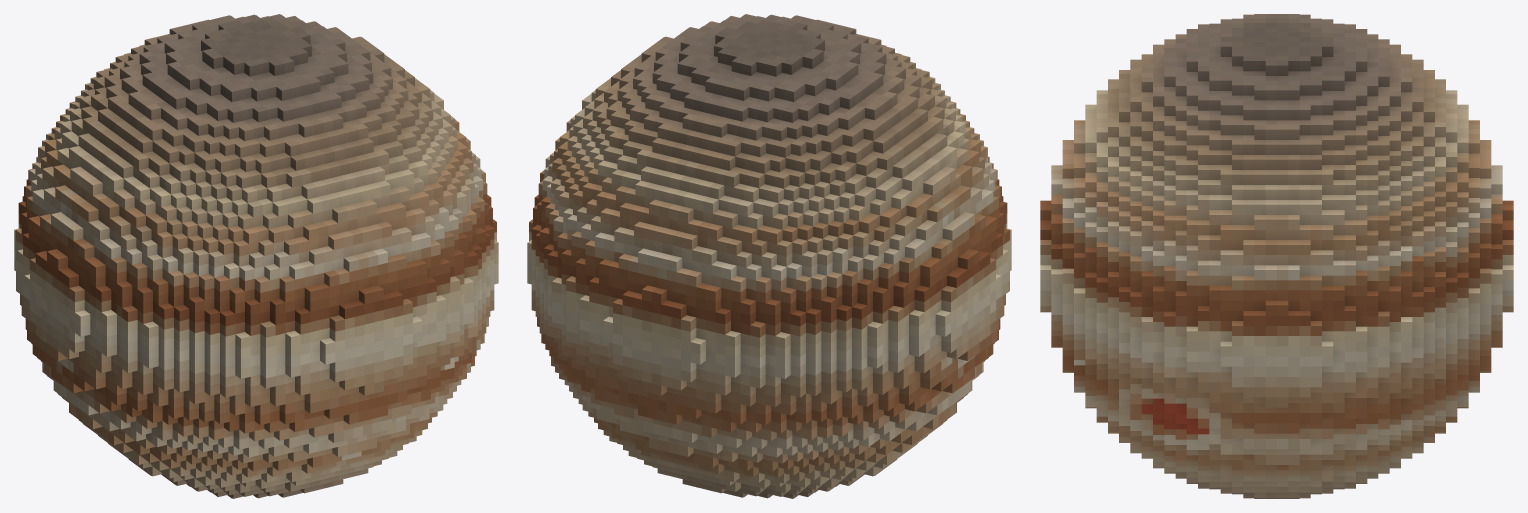
The model's file is jupiter_lod1.glb.
3 renders of one model, left to right at view 1: azimuth 30°, elevation 25°; view 2: azimuth 150°, elevation 25°; view 3: azimuth 270°, elevation 25°, orthographic.
Parts seen in each view (by area): view 1: jupiter_lod1; view 2: jupiter_lod1; view 3: jupiter_lod1.
Part boxes in pixels (bbox=[...]): jupiter_lod1: bbox=[14, 14, 498, 498]; jupiter_lod1: bbox=[527, 14, 1011, 498]; jupiter_lod1: bbox=[1040, 14, 1513, 498].
Size of the model in its own units: 2 by 2 by 2.
